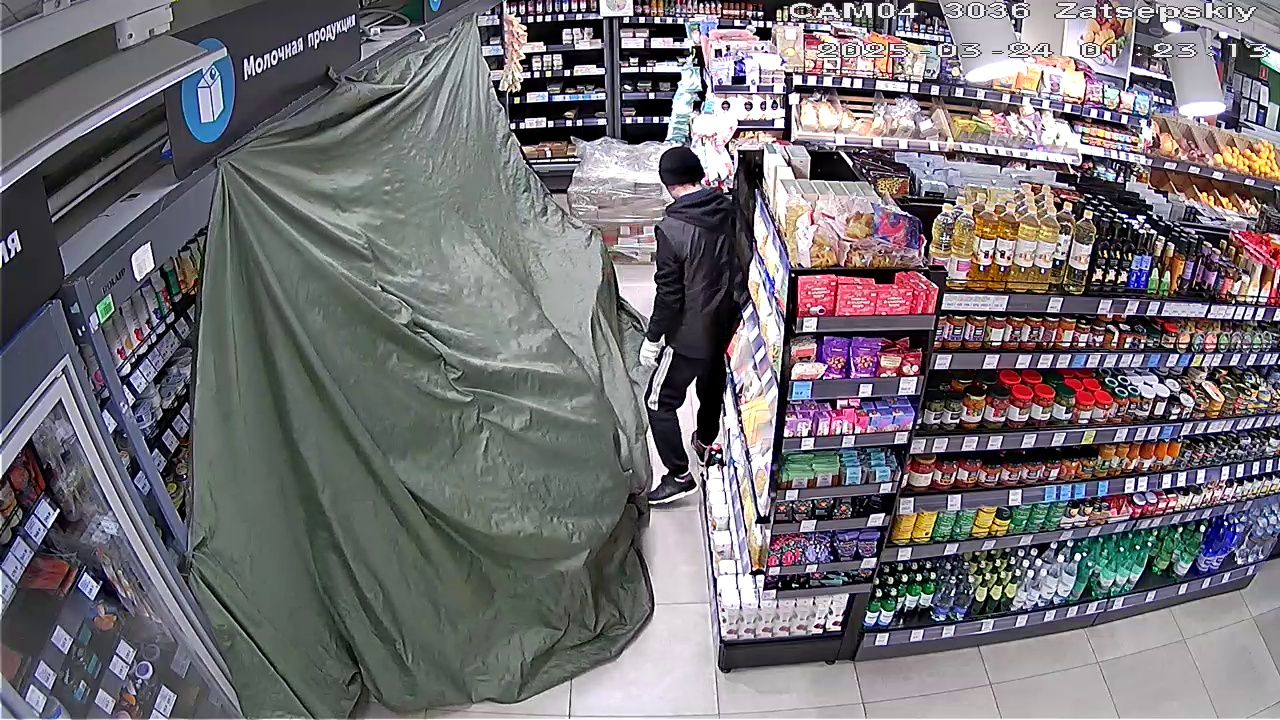Human: (625, 139, 747, 495)
dome: (187, 21, 646, 709)
pallet: (566, 123, 664, 267)
